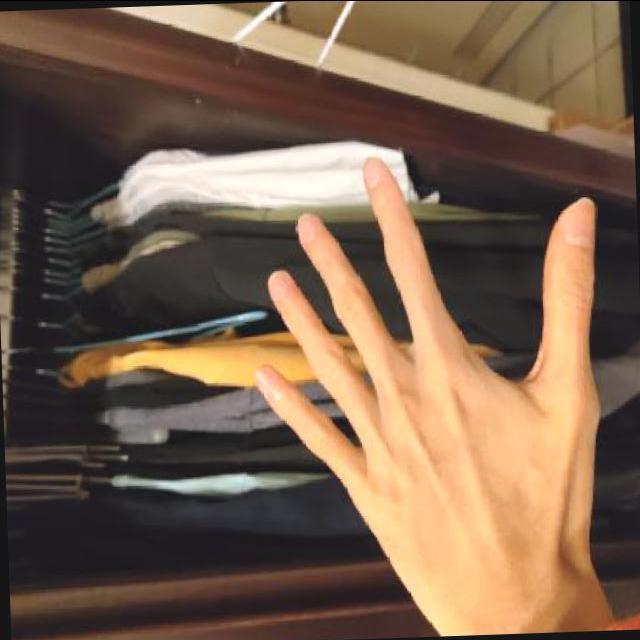hand: (227, 144, 633, 640)
